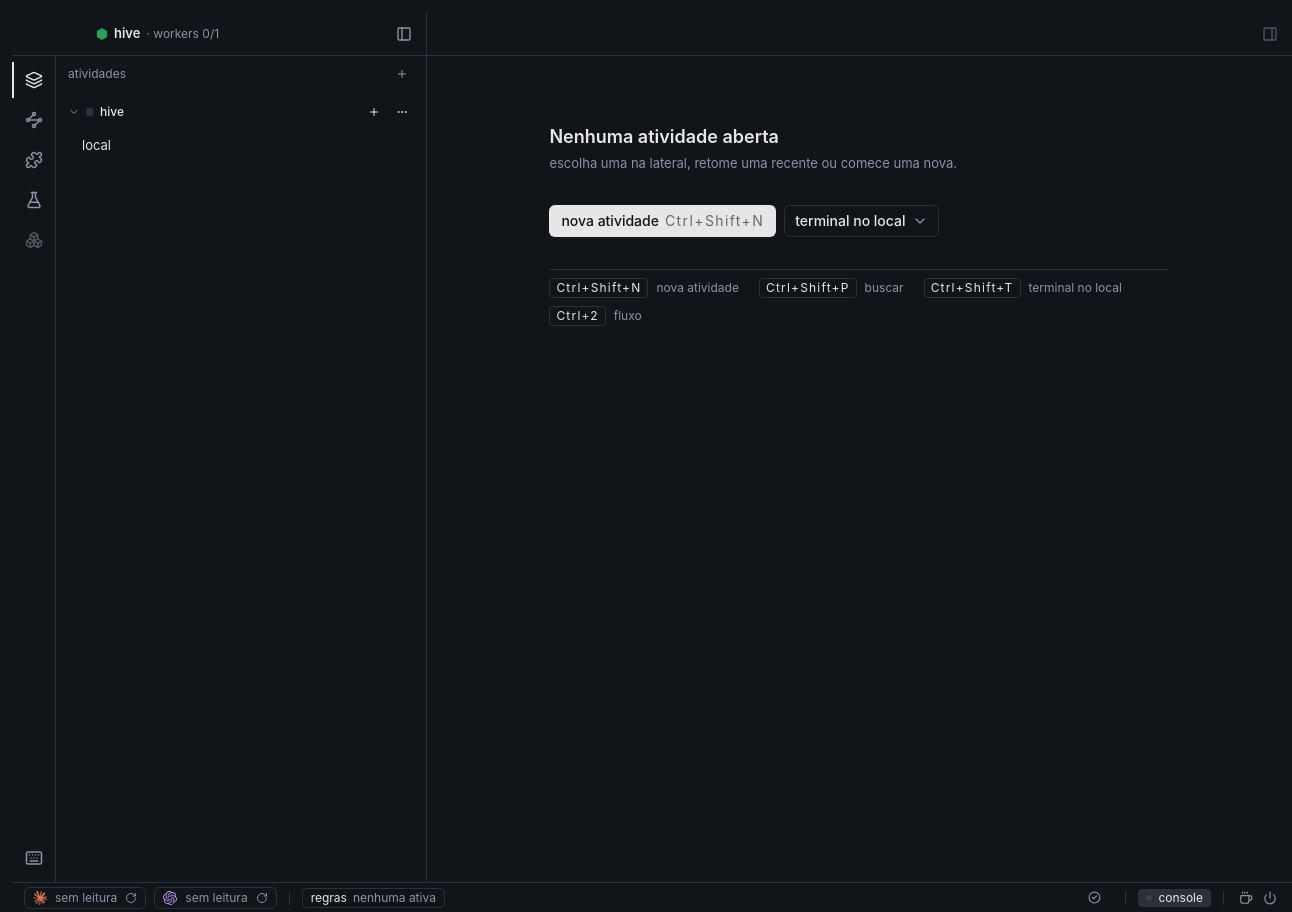
it: a PR with no task, opened from a repository's PR list, goes back to the flow keeping its pick (#380)
What coordinates should you click on to do the following:
click the button named "fluxo"
I would click on:
 (34, 120)
Its box is left=12, top=102, right=56, bottom=138.
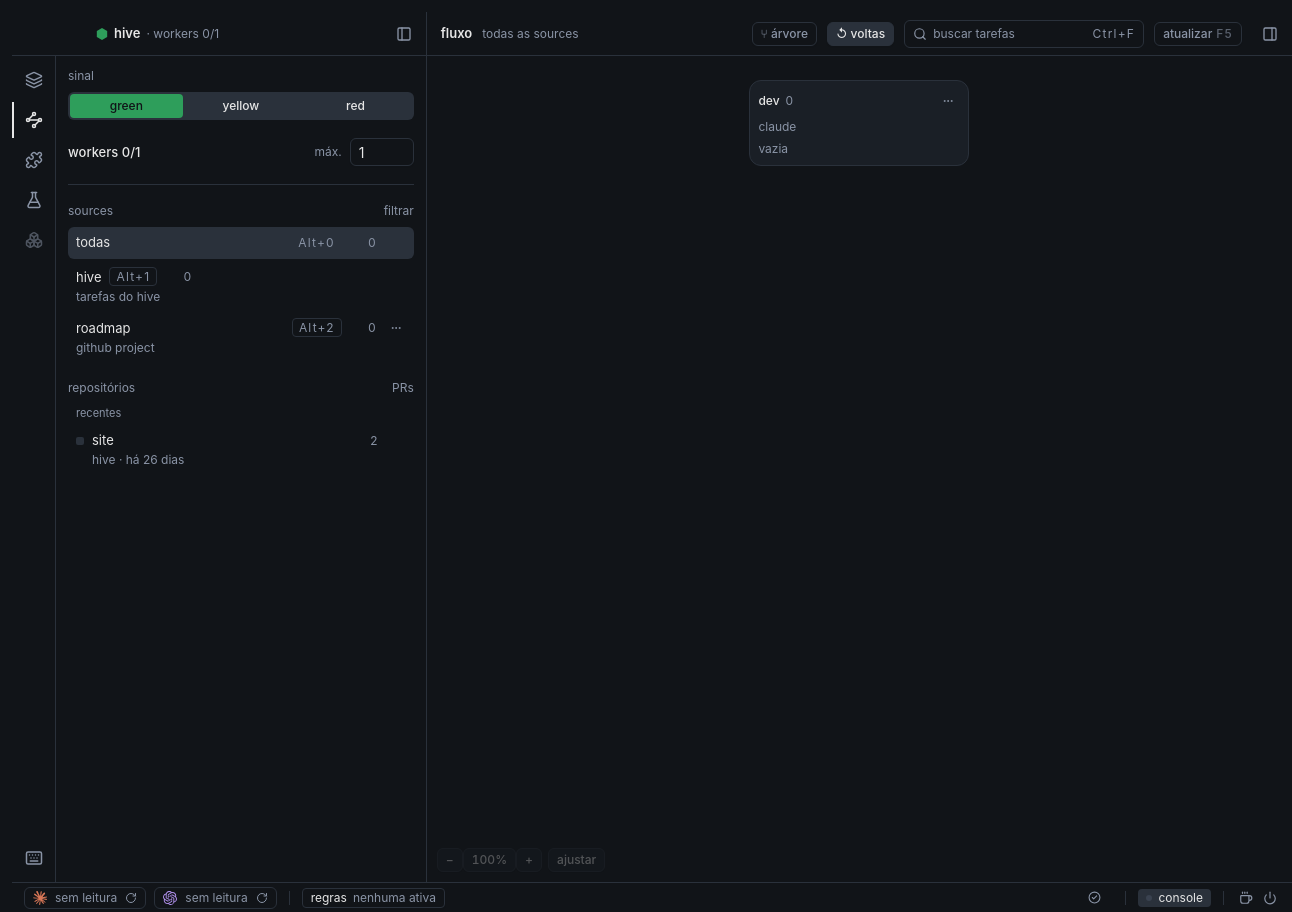
Now the button "site 2 hive · há 26 dias" is shown, box left=68, top=425, right=414, bottom=474
What coordinates should you click on to do the following:
click the button "roadmap Alt+2 0 github project"
I would click on:
 (103, 328)
Its box is left=68, top=313, right=414, bottom=362.
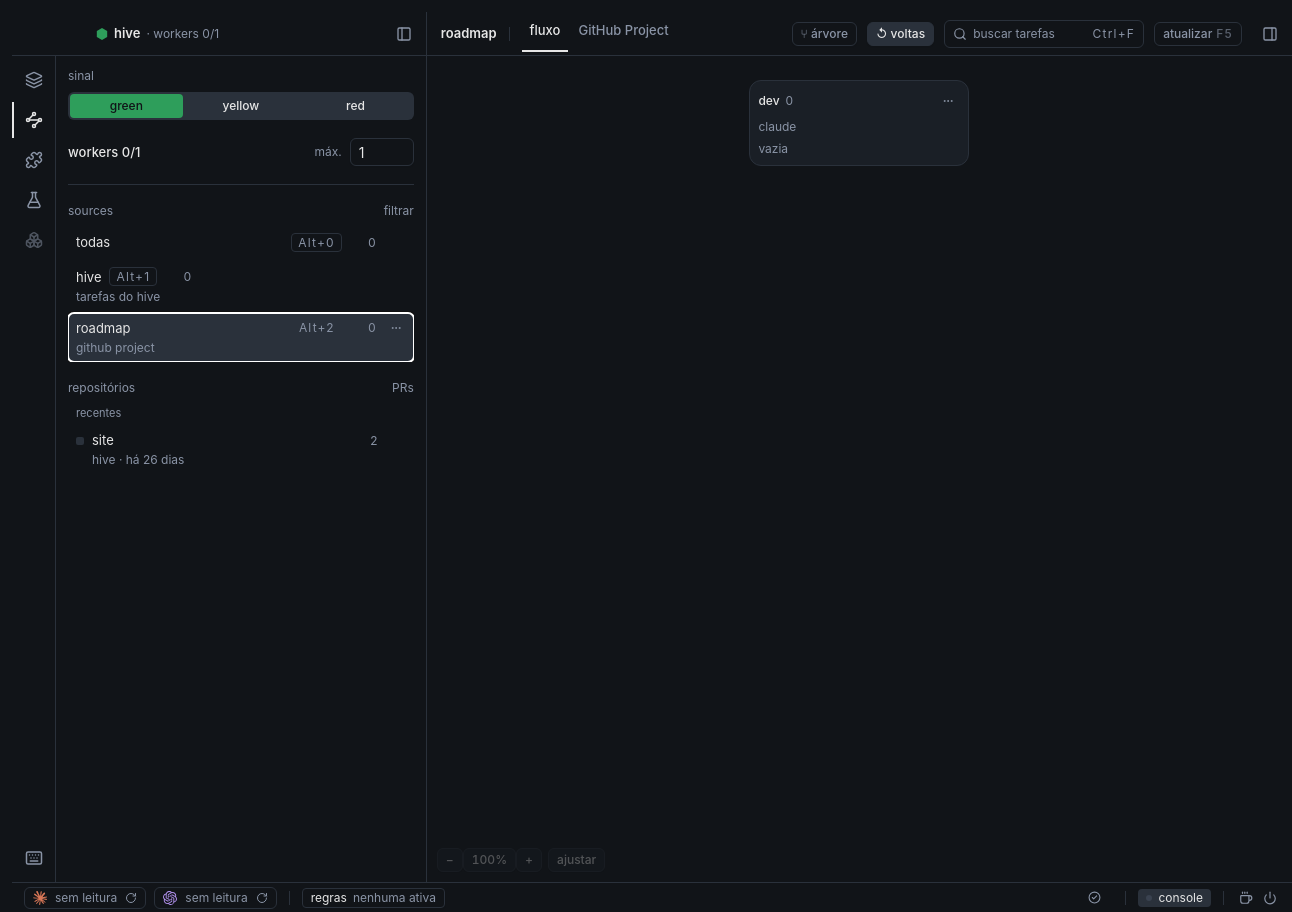
What coordinates should you click on to do the following:
click the button "site 2 hive · há 26 dias"
I would click on:
 (138, 459)
Its box is left=68, top=425, right=414, bottom=474.
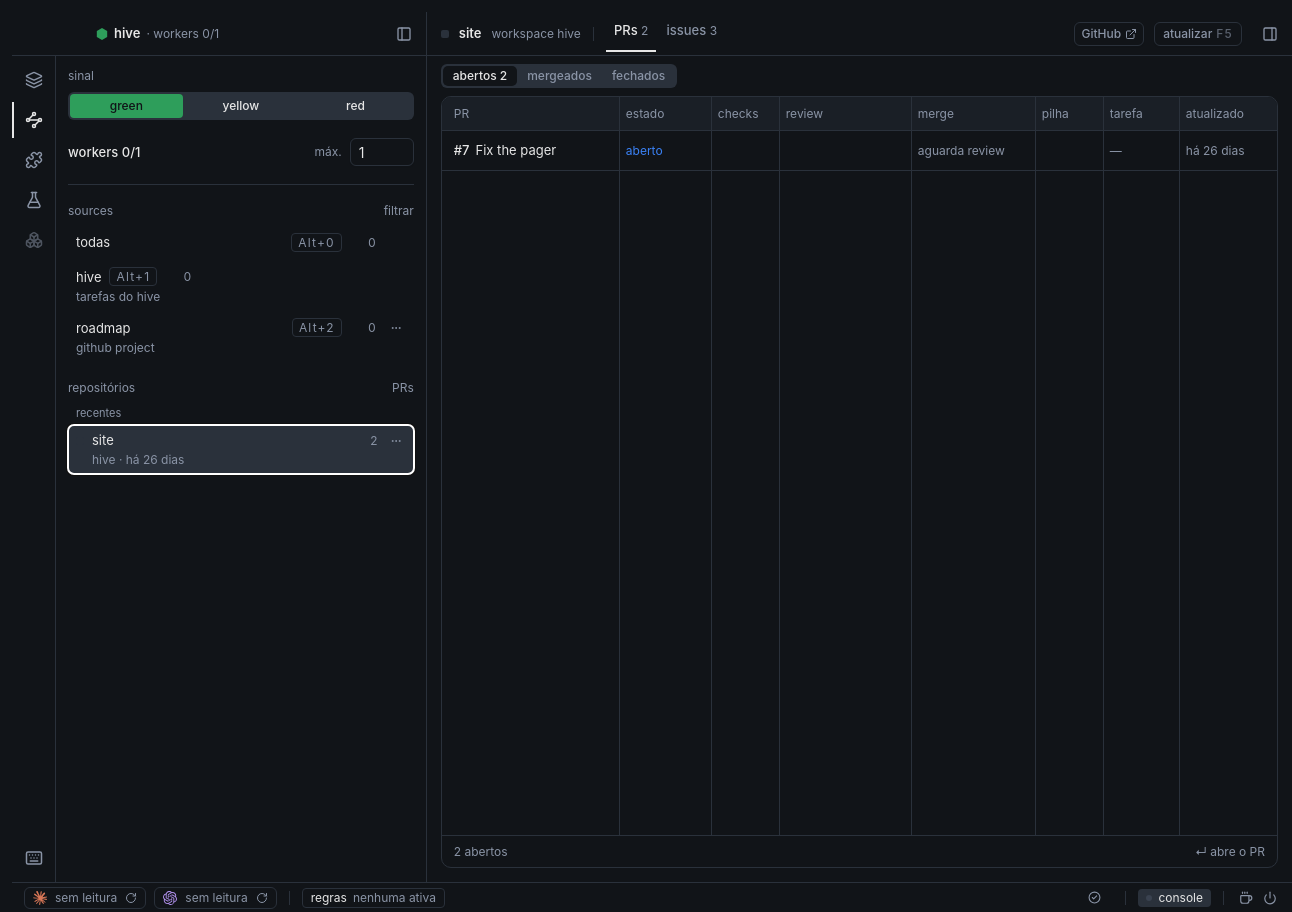
What coordinates should you click on to do the following:
click the text "Fix the pager"
I would click on:
 (516, 150)
Its box is left=476, top=141, right=556, bottom=160.
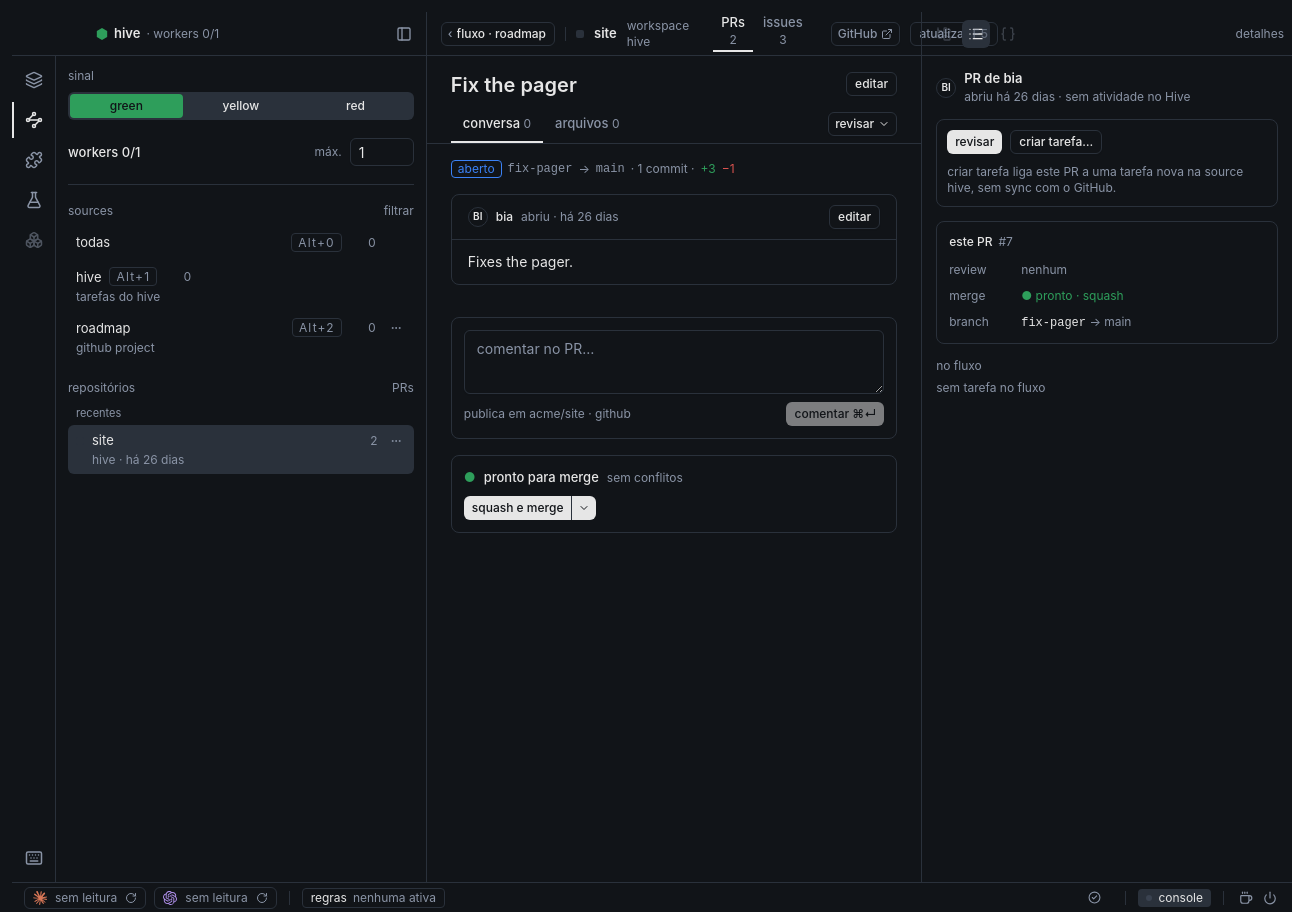
Now the heading "Fix the pager" is shown, box left=451, top=73, right=577, bottom=97
What coordinates should you click on to do the following:
click the button "‹ fluxo · roadmap"
I would click on:
 (498, 34)
Its box is left=441, top=22, right=555, bottom=46.
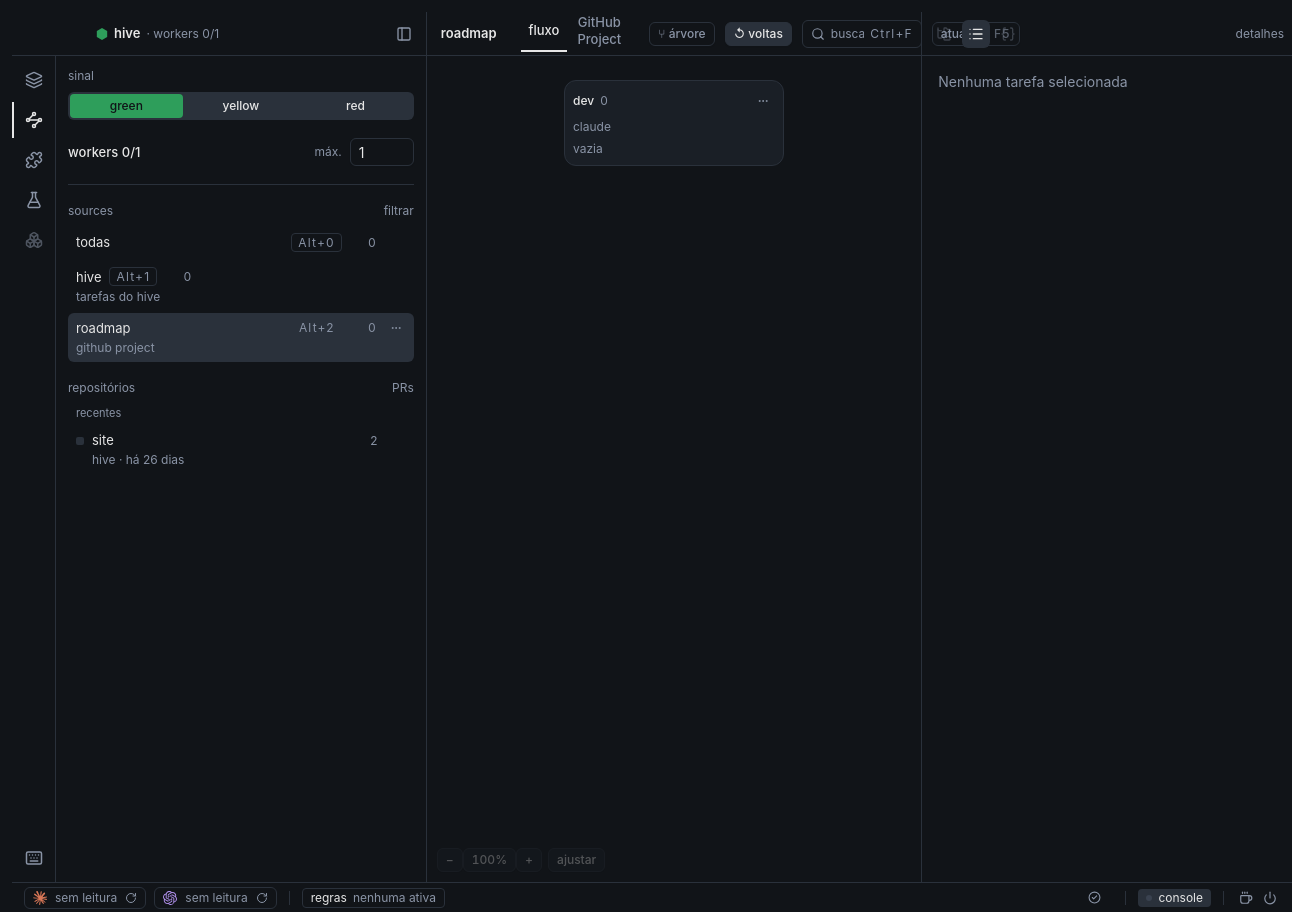
Now the heading "Fix the pager" is gone
